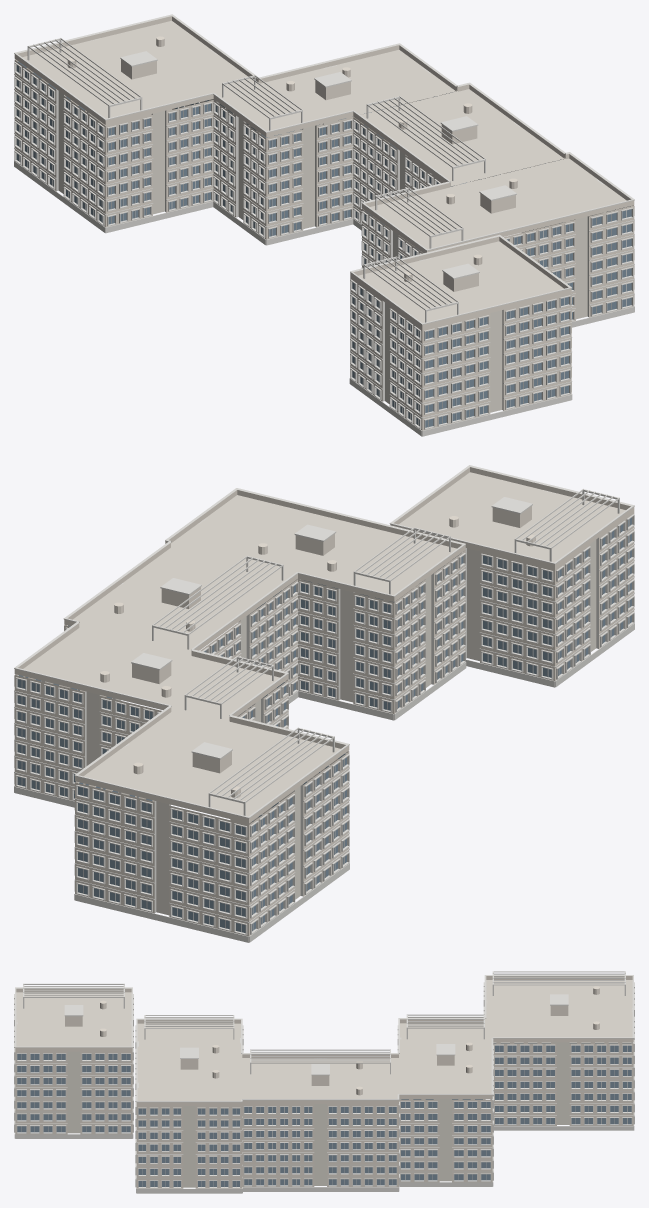
The model's file is Sindhu_Hostel.fbx.
3 views of the same model, one above another, from view 1: azimuth 30°, elevation 25°; view 2: azimuth 150°, elevation 25°; view 3: azimuth 270°, elevation 25° (orthographic). The views are drawn at different scales.
Parts seen in each view (by area): view 1: Sindhu_Hostel; view 2: Sindhu_Hostel; view 3: Sindhu_Hostel.
Part boxes in pixels (box(x1,y1,x2,y2)): Sindhu_Hostel: box(14, 14, 634, 436); Sindhu_Hostel: box(14, 465, 634, 942); Sindhu_Hostel: box(14, 971, 634, 1193).
Size of the model in its own units: 76.64 by 28.09 by 159.
